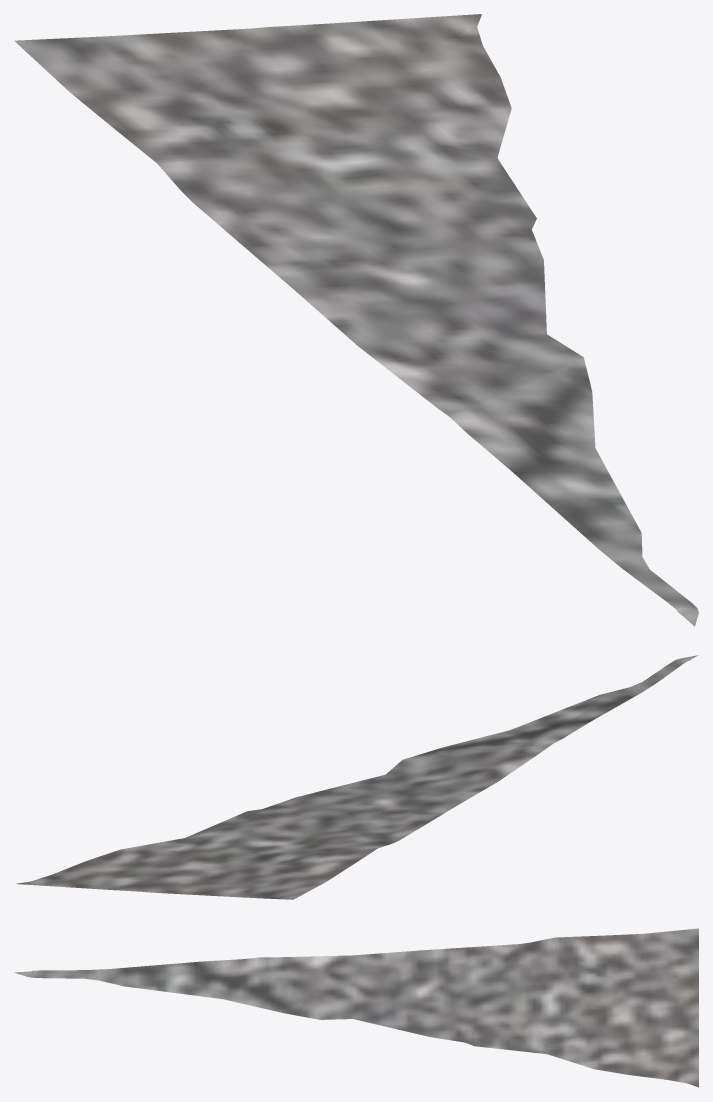
3 renders of one model, top to bottom at view 1: azimuth 30°, elevation 25°; view 2: azimuth 150°, elevation 25°; view 3: azimuth 270°, elevation 25°, orthographic. The views are drawn at different scales.
Size of the model in its own units: 0.16 by 0.0287 by 0.403.
Materials: 1 (1 with a texture image).
